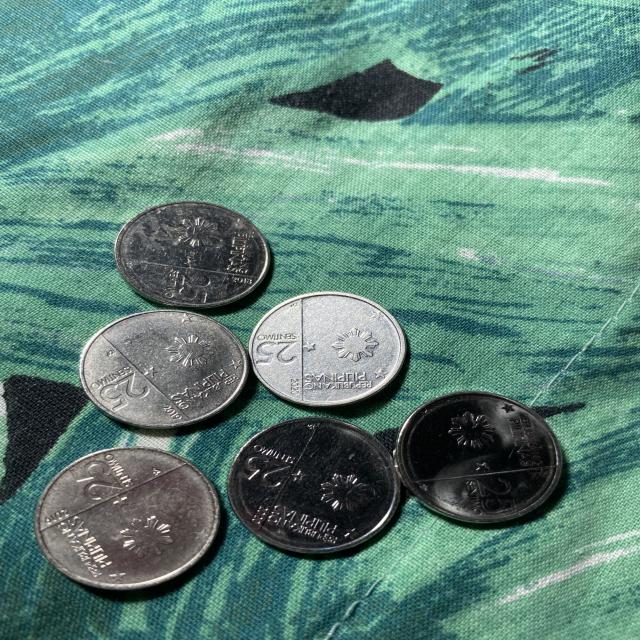25Cent_New_Front: (64, 459, 127, 501), (234, 452, 292, 487), (473, 477, 522, 517), (100, 373, 152, 410), (254, 340, 300, 368), (174, 271, 211, 302)
